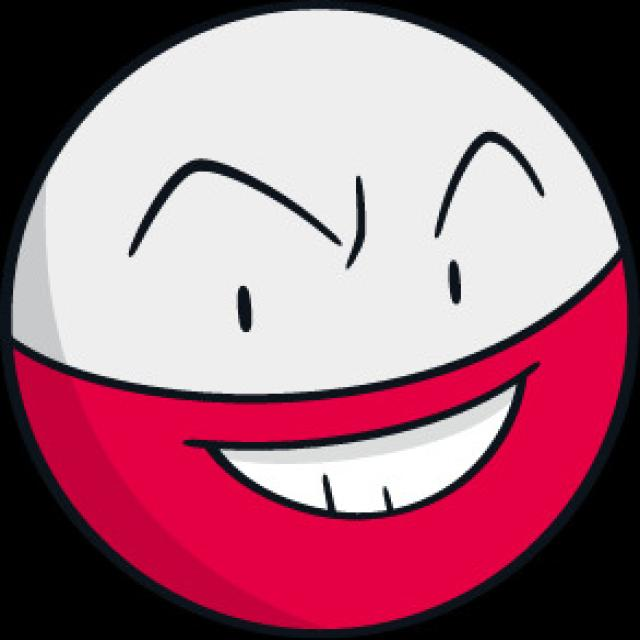Electrode: (9, 8, 630, 625)
